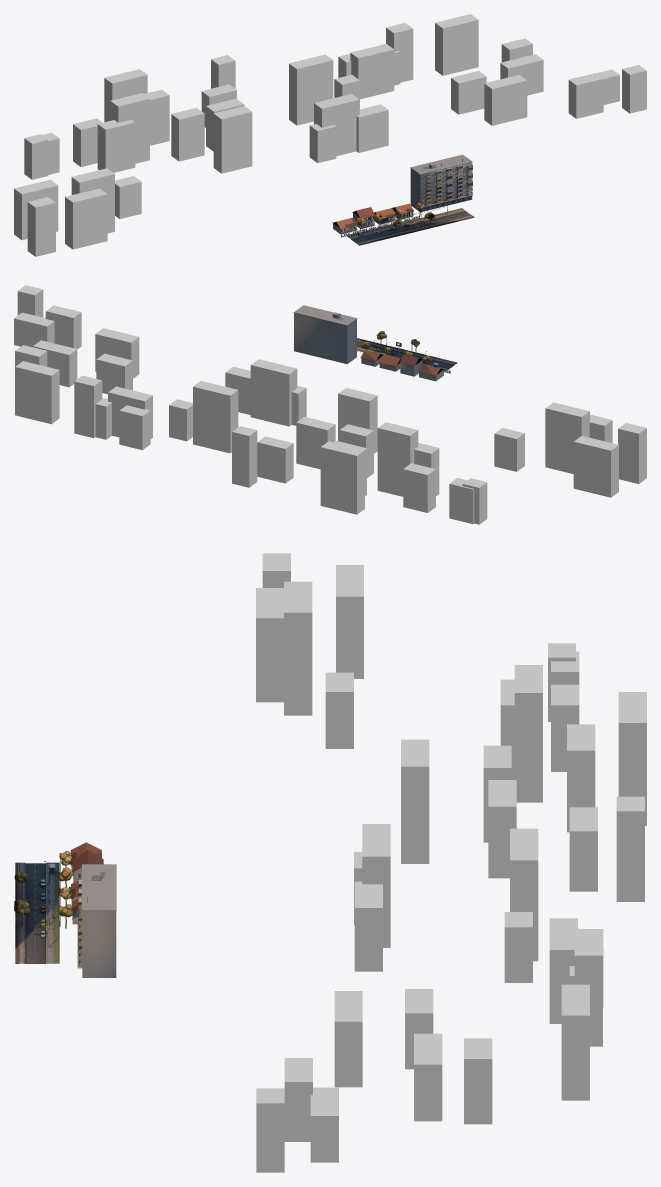
The model's file is view.glb.
The picture shows the model from 3 angles, top to bottom: view 1: azimuth 30°, elevation 25°; view 2: azimuth 150°, elevation 25°; view 3: azimuth 270°, elevation 25°; orthographic projection. The views are drawn at different scales.
Visible parts, largest first — view 1: Far, Across, Street; view 2: Far, Across, Street; view 3: Far, Across, Street.
Boxes of the visible parts, left/top/right/bottom form: Far: left=14, top=14, right=646, bottom=256; Across: left=332, top=154, right=473, bottom=237; Street: left=347, top=203, right=474, bottom=245; Far: left=14, top=285, right=646, bottom=524; Across: left=293, top=305, right=450, bottom=381; Street: left=357, top=336, right=457, bottom=370; Far: left=256, top=553, right=646, bottom=1172; Across: left=14, top=842, right=116, bottom=977; Street: left=15, top=861, right=59, bottom=963.
Size of the model in its own units: 445 by 43.05 by 224.
4 materials, 3 textured.
